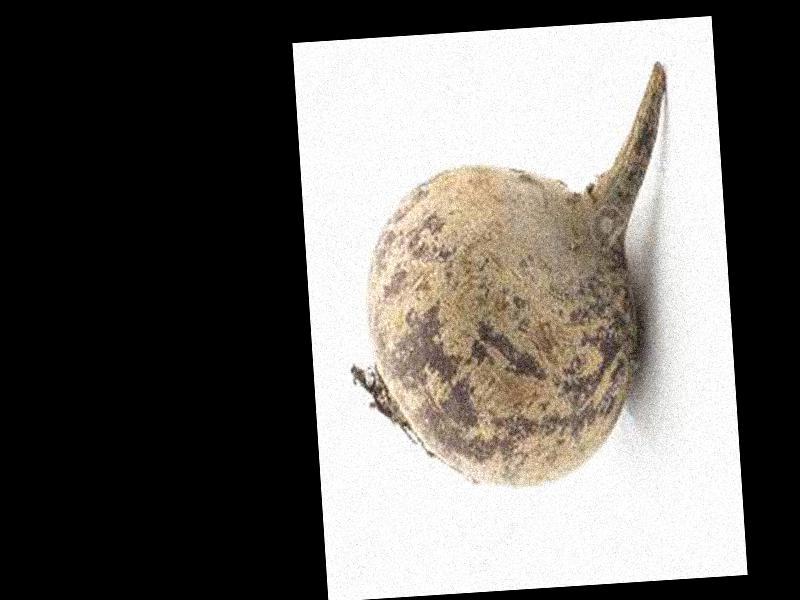Beet: (333, 64, 690, 498)
